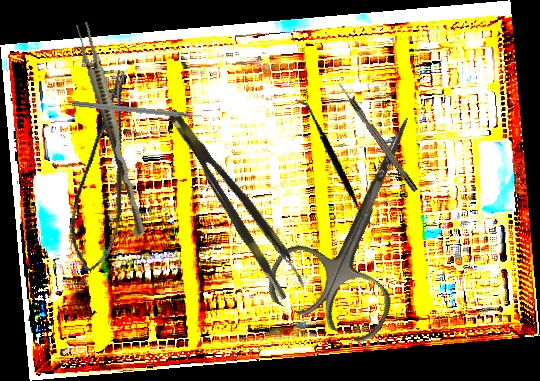Hook Surgical: (336, 80, 419, 194), (72, 100, 210, 123)
Iris Scissors: (258, 93, 467, 348)
Micro Scissor: (55, 67, 163, 277)
Spatula Surgical: (258, 97, 411, 229)
Tissue Forceps: (164, 97, 309, 302), (70, 20, 154, 238)
